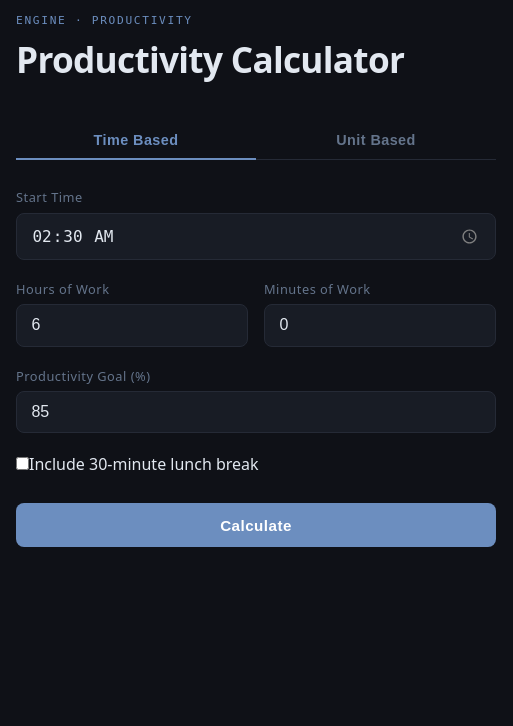
Test: CalculatorPage › shows results after successful time_based submit
The width and height of the screenshot is (513, 726).
Click the button "Calculate" at (256, 525), box [16,503,496,548]
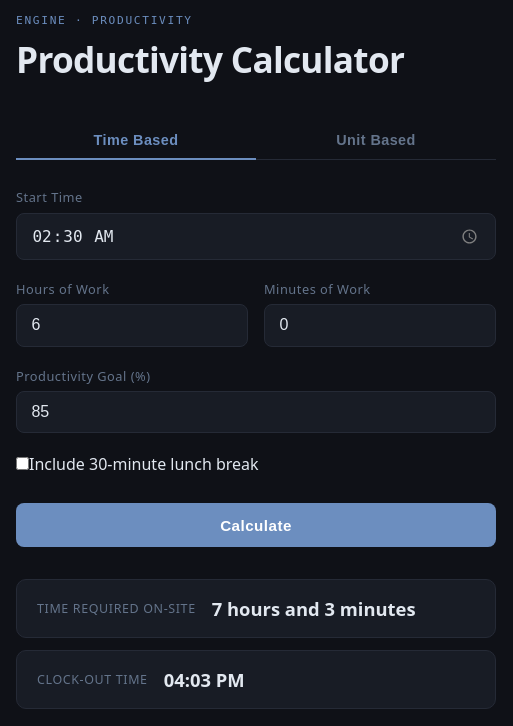
Expected: the text "7 hours and 3 minutes" is shown, [212,596,416,622]
Expected: the text "04:03 PM" is shown, [164,668,245,692]
